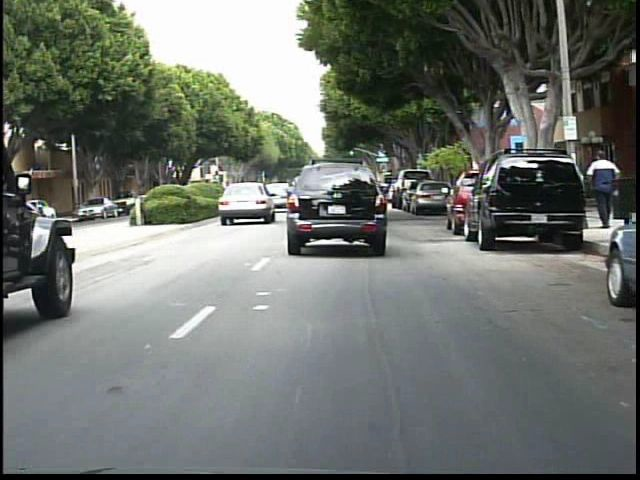person: (584, 146, 621, 229)
